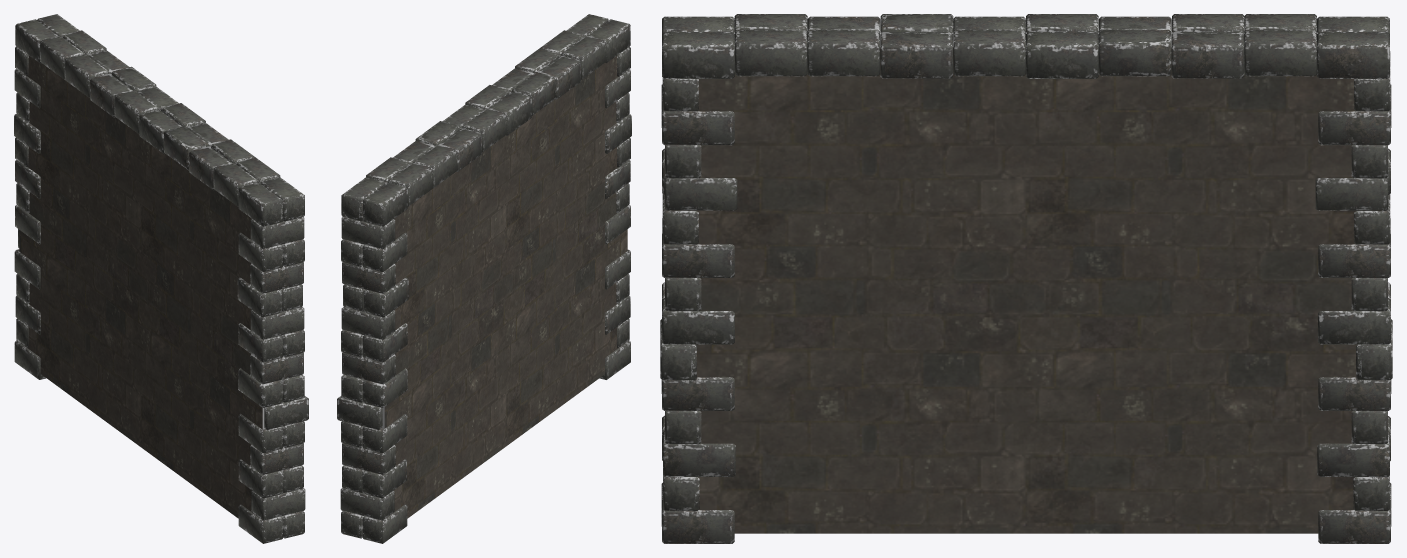
The picture shows the model from 3 angles, left to right: view 1: azimuth 30°, elevation 25°; view 2: azimuth 150°, elevation 25°; view 3: azimuth 270°, elevation 25°; orthographic projection. The views are drawn at different scales.
Parts seen in each view (by area): view 1: wall_wall_low_0; view 2: wall_wall_low_0; view 3: wall_wall_low_0.
Part boxes in pixels (left/top/right/bottom): wall_wall_low_0: left=14, top=14, right=308, bottom=543; wall_wall_low_0: left=337, top=14, right=631, bottom=543; wall_wall_low_0: left=660, top=14, right=1392, bottom=543.
Size of the model in its own units: 0.6174 by 4.23 by 5.61.
1 material, 1 textured.
